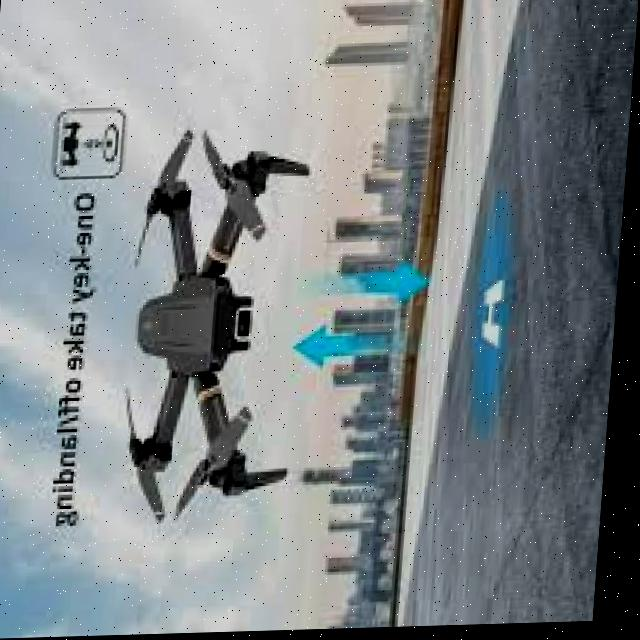drone: (99, 119, 334, 518)
